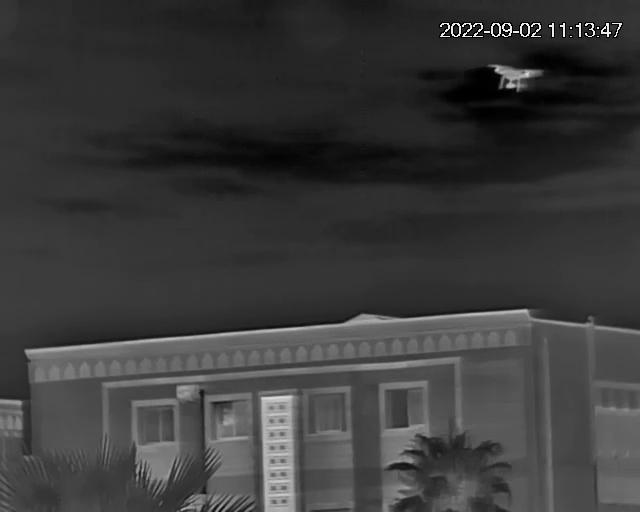DJI-Phantom: (487, 60, 549, 98)
